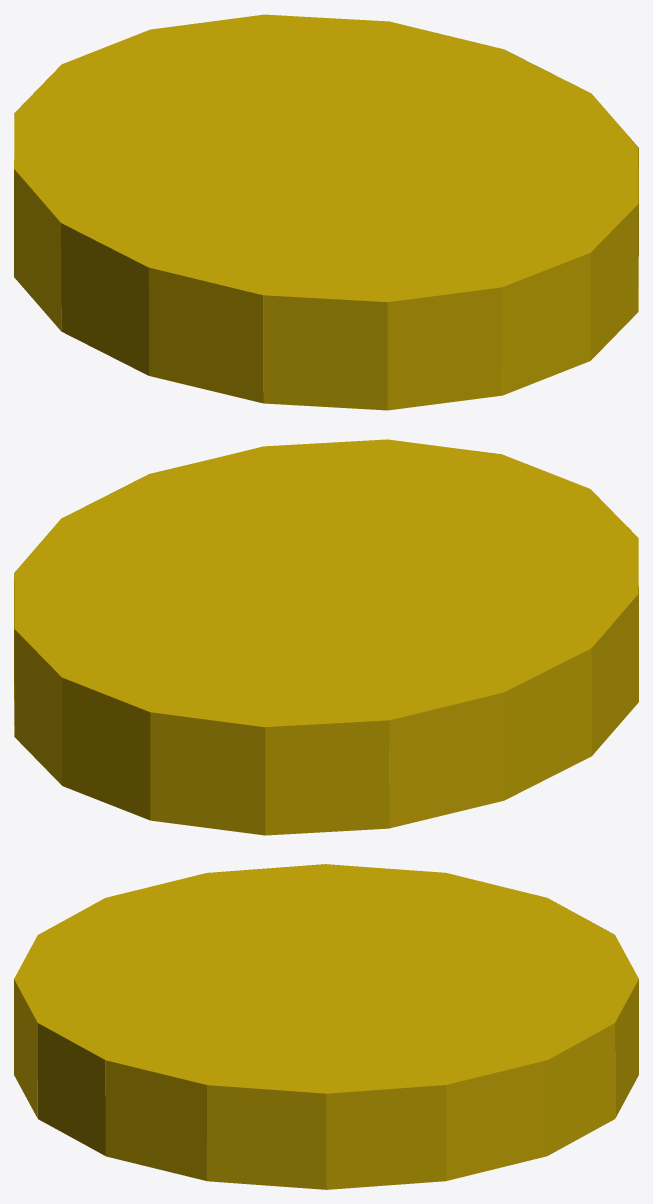
The model's file is original-13.obj.
3 views of the same model, one above another, from view 1: azimuth 30°, elevation 25°; view 2: azimuth 150°, elevation 25°; view 3: azimuth 270°, elevation 25° (orthographic). The views are drawn at different scales.
Visible parts, largest first — view 1: #ID81; view 2: #ID81; view 3: #ID81.
Boxes of the visible parts, box(x1,y1,x2,y2) form: #ID81: box(14, 14, 638, 410); #ID81: box(14, 439, 638, 835); #ID81: box(14, 864, 638, 1189).
Size of the model in its own units: 0.4246 by 0.083 by 0.4882.
